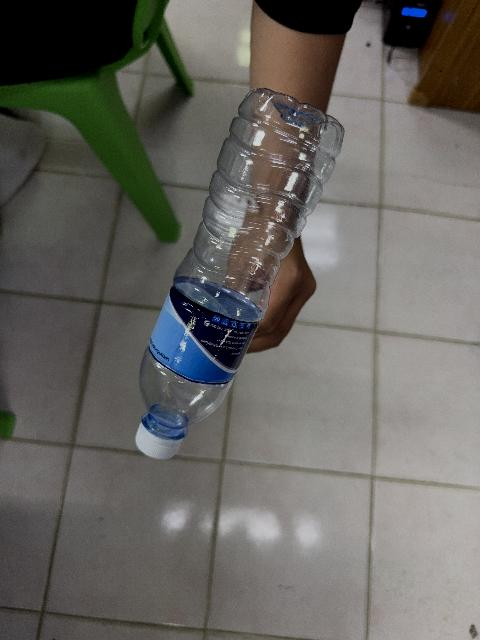bottle: (135, 90, 342, 458)
